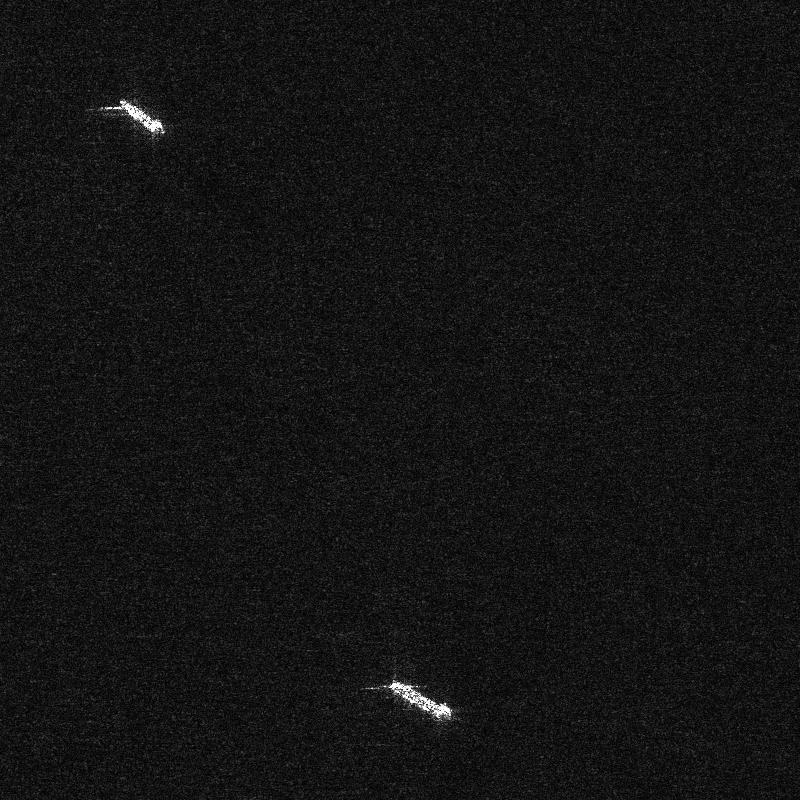ship: (388, 680, 452, 720), (104, 98, 164, 135)
